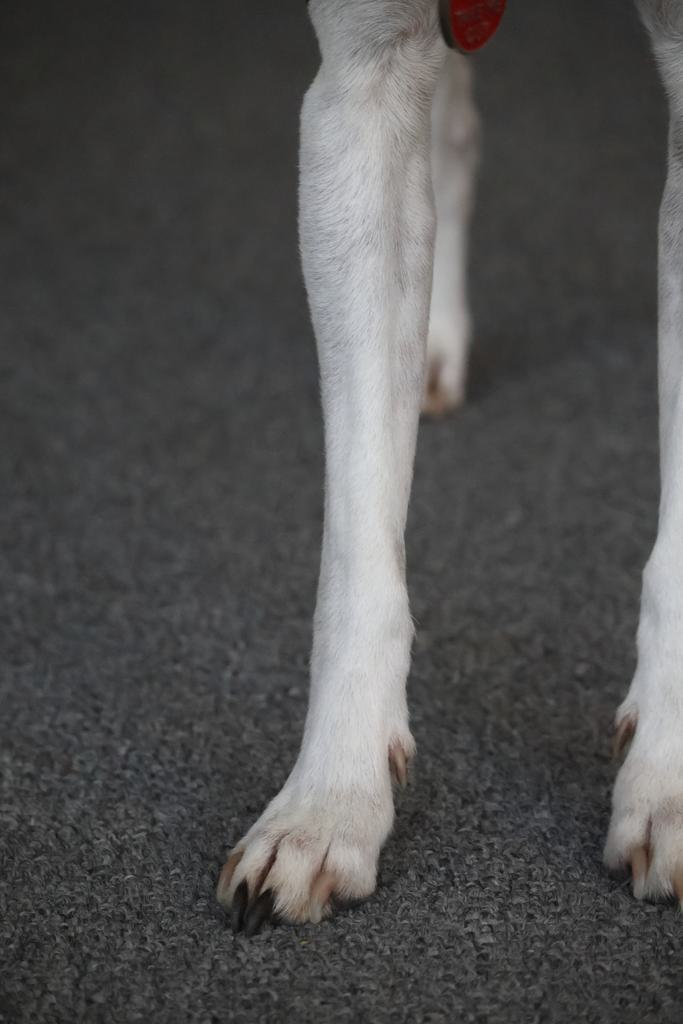Dog: (194, 0, 683, 936)
